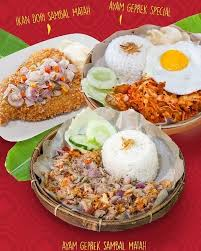ayam_geprek: (46, 148, 164, 218), (113, 74, 193, 124)
